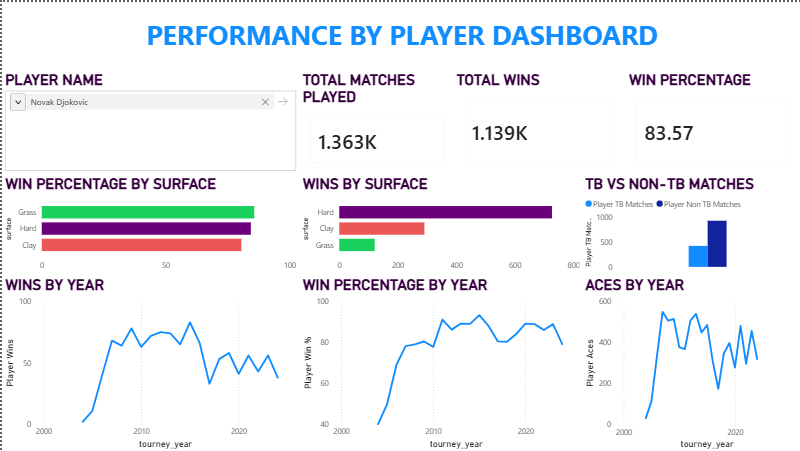

This screenshot's page, from the dashboard's own definition file:
{"tool":"powerbi","page":{"name":"Player Analysis","canvas":[1280,720],"ordinal":1},"visuals":[{"type":"textSlicer","title":"PLAYER NAME","fields":{"Values":["tennis_db dim_players.player_name"]},"box":[0,110,475,165],"z":0},{"type":"cardVisual","title":"TOTAL MATCHES PLAYED","fields":{"Data":["tennis_db dim_players.Player Total Matches"]},"box":[475,110,248.3,165],"z":1000},{"type":"textbox","box":[0,0,1280,110],"z":2000},{"type":"cardVisual","title":"TOTAL WINS","fields":{"Data":["tennis_db dim_players.Player Wins"]},"box":[722.5,110,275,165],"z":3000},{"type":"cardVisual","title":"WIN PERCENTAGE","fields":{"Data":["tennis_db dim_players.Player Win %"]},"box":[998.3,110,281.7,165],"z":4000},{"type":"clusteredBarChart","title":"WIN PERCENTAGE BY SURFACE","fields":{"Category":["tennis_db fact_matches.surface"],"Y":["tennis_db dim_players.Player Win %"]},"box":[0,275,475,163.3],"z":5000},{"type":"lineChart","title":"WINS BY YEAR","fields":{"Category":["tennis_db fact_matches.tourney_year"],"Y":["tennis_db dim_players.Player Wins"]},"box":[0,438.3,475,281.7],"z":6000},{"type":"lineChart","title":"WIN PERCENTAGE BY YEAR","fields":{"Category":["tennis_db fact_matches.tourney_year"],"Y":["tennis_db dim_players.Player Win %"]},"box":[475,438.3,453.3,281.7],"z":7000},{"type":"clusteredBarChart","title":"WINS BY SURFACE","fields":{"Y":["tennis_db dim_players.Player Wins"],"Category":["tennis_db fact_matches.surface"]},"box":[475,275,453.3,163.3],"z":8000},{"type":"lineChart","title":"ACES BY YEAR","fields":{"Category":["tennis_db fact_matches.tourney_year"],"Y":["tennis_db dim_players.Player Aces"]},"box":[928,438,352,282],"z":9000},{"type":"clusteredColumnChart","title":"TB VS NON-TB MATCHES","fields":{"Y":["tennis_db dim_players.Player TB Matches","tennis_db dim_players.Player Non TB Matches"]},"box":[928,276,352,162],"z":10000}]}

Visuals, with their boxes in screenshot pixels (x1, y1, x2, y2), scaled from the page's 1280x720 canvas onto the 800x451 screenshot:
"PLAYER NAME" textSlicer: (0,69,297,172)
"TOTAL MATCHES PLAYED" cardVisual: (297,69,452,172)
textbox: (0,0,799,69)
"TOTAL WINS" cardVisual: (452,69,623,172)
"WIN PERCENTAGE" cardVisual: (624,69,799,172)
"WIN PERCENTAGE BY SURFACE" clusteredBarChart: (0,172,297,275)
"WINS BY YEAR" lineChart: (0,275,297,450)
"WIN PERCENTAGE BY YEAR" lineChart: (297,275,580,450)
"WINS BY SURFACE" clusteredBarChart: (297,172,580,275)
"ACES BY YEAR" lineChart: (580,274,799,450)
"TB VS NON-TB MATCHES" clusteredColumnChart: (580,173,799,274)
